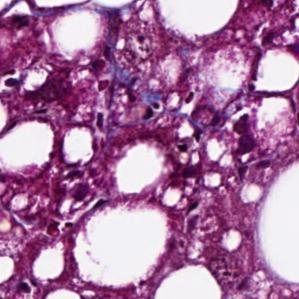inflammation: (44, 170, 106, 222), (219, 113, 267, 172), (142, 90, 196, 137)
